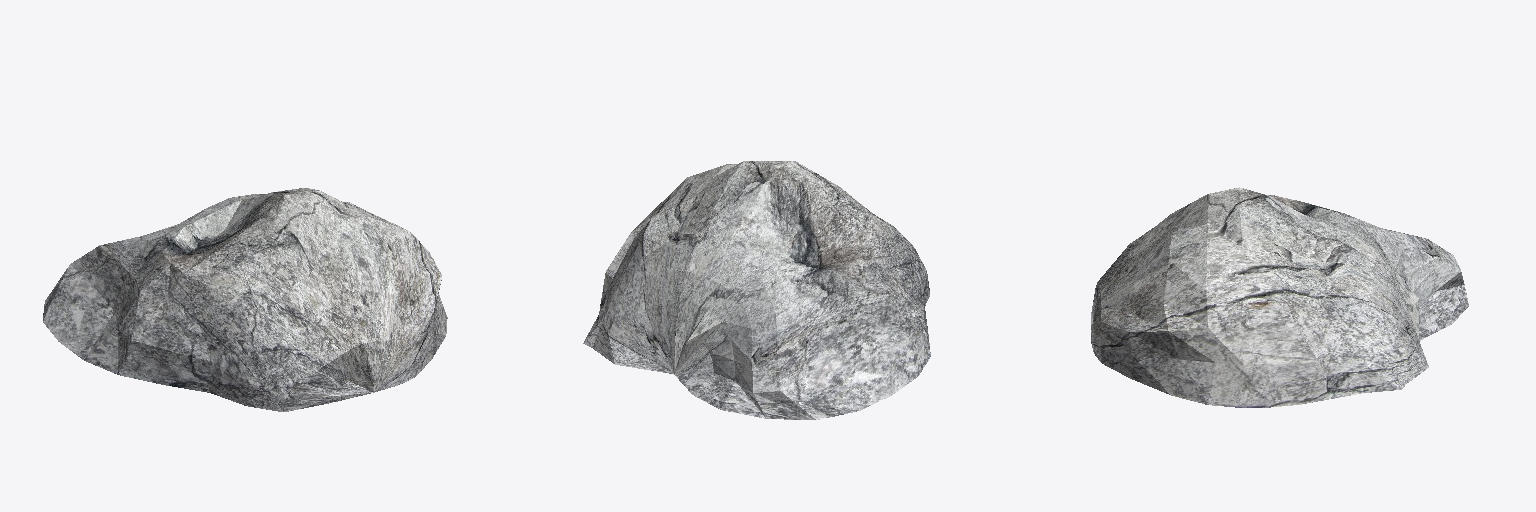
The picture shows the model from 3 angles: view 1: azimuth 30°, elevation 25°; view 2: azimuth 150°, elevation 25°; view 3: azimuth 270°, elevation 25°; orthographic projection.
Size of the model in its own units: 38.42 by 16.66 by 39.03.
1 materials, 1 textured.